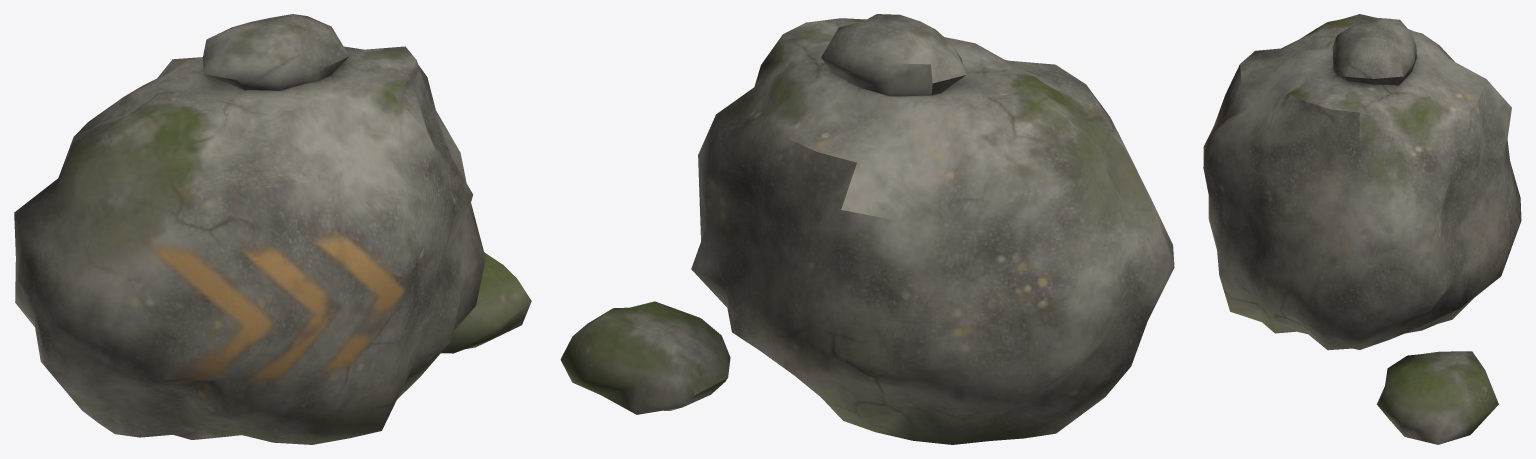
File: fm_waymarker_boulder.glb
The picture shows the model from 3 angles, left to right: view 1: azimuth 30°, elevation 25°; view 2: azimuth 150°, elevation 25°; view 3: azimuth 270°, elevation 25°; orthographic projection. The views are drawn at different scales.
Visible parts, largest first — view 1: fm_waymarker_boulder; view 2: fm_waymarker_boulder; view 3: fm_waymarker_boulder.
Boxes of the visible parts, x1,y1,x2,y2 form: fm_waymarker_boulder: (14,14,531,444); fm_waymarker_boulder: (560,14,1174,444); fm_waymarker_boulder: (1203,14,1521,444).
Bounding box in the file's own units: 1.38 × 0.9728 × 0.8907.
1 material, 1 textured.
